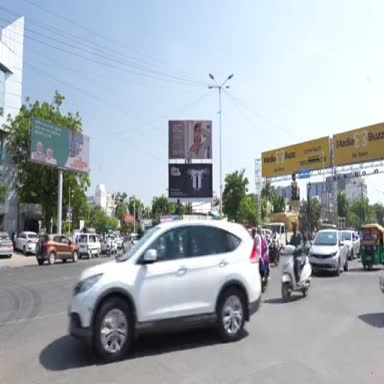Car: (68, 221, 261, 362), (309, 230, 348, 276), (36, 234, 79, 266), (77, 234, 101, 259), (15, 232, 38, 256), (342, 230, 359, 260), (0, 232, 14, 258), (101, 234, 117, 254), (126, 234, 140, 251), (114, 234, 122, 249), (261, 229, 272, 239), (380, 277, 383, 293)
